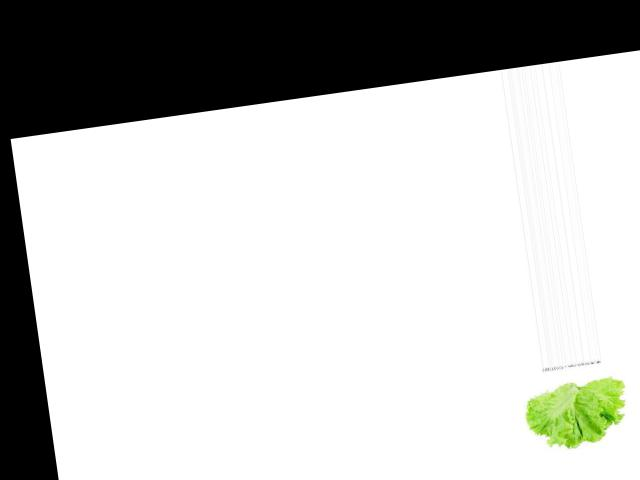lettuce: (517, 362, 633, 455)
